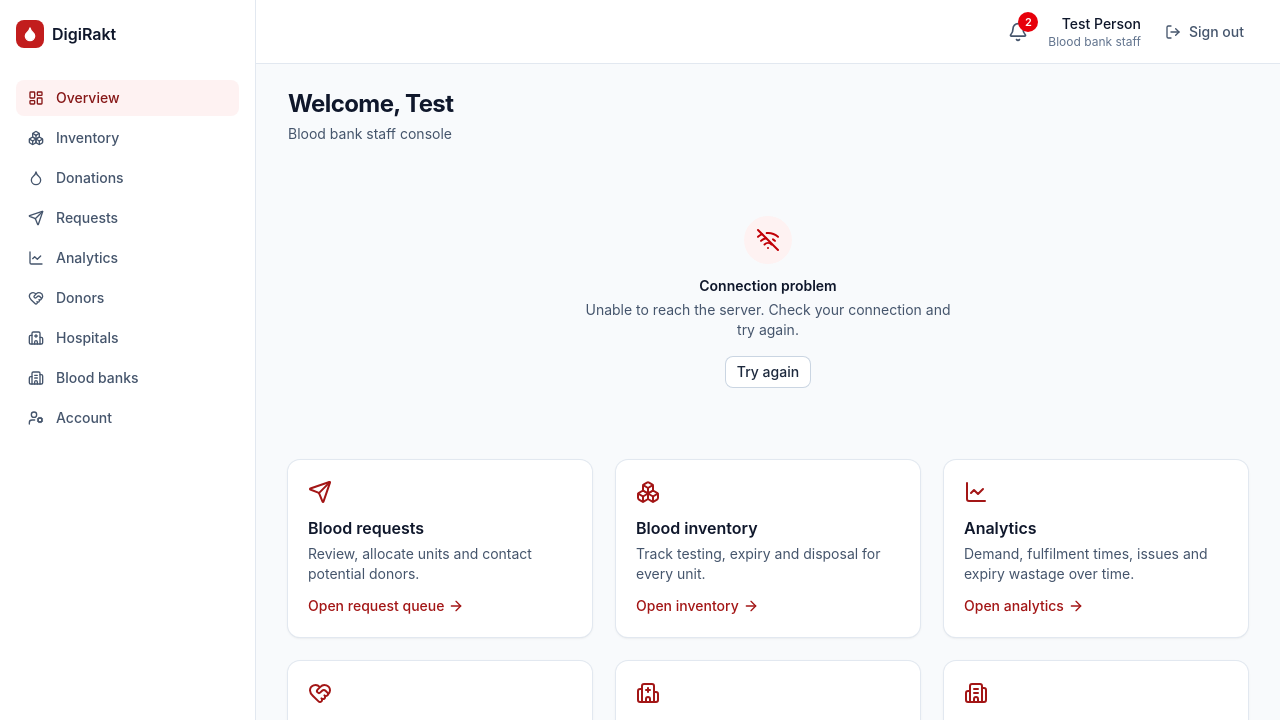
Test case: notification bell › announces unread and critical counts, and lists the latest notifications
This screenshot has width=1280, height=720.
Click the button named "Notifications, 2 unread, 1 critical": coordinates (1018, 32) left=1000, top=14, right=1036, bottom=50
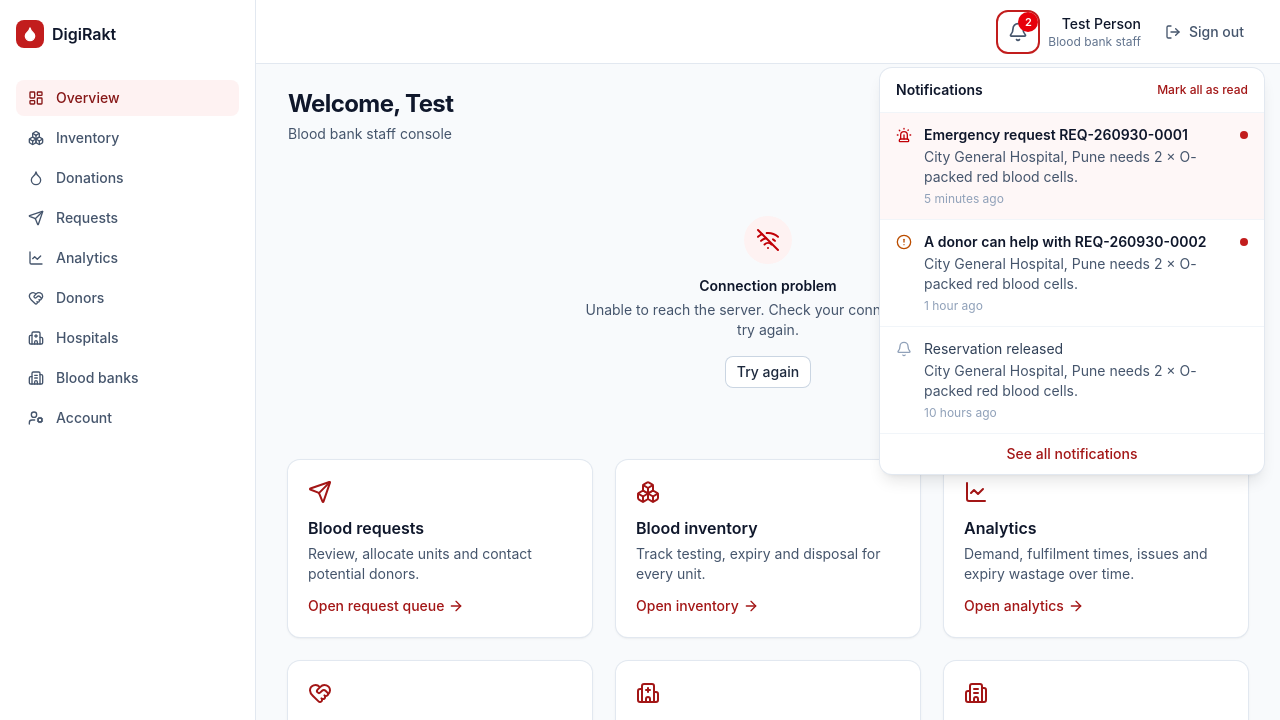
Now the text "Emergency request REQ-260930-0001" is shown, box left=924, top=125, right=1188, bottom=145
